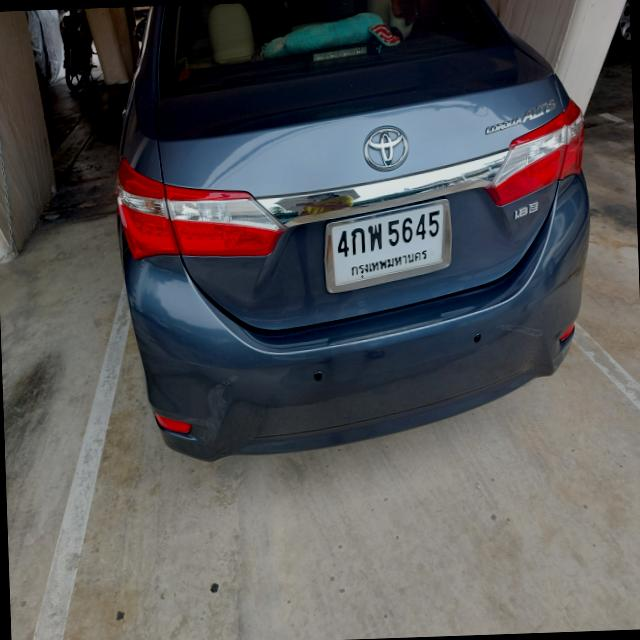license_plate: (322, 194, 456, 294)
